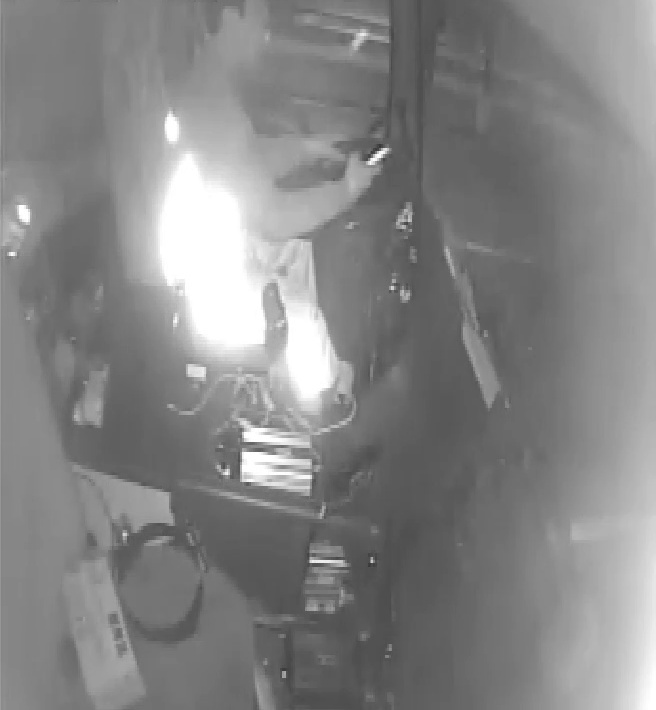cellphone: (343, 144, 393, 178)
